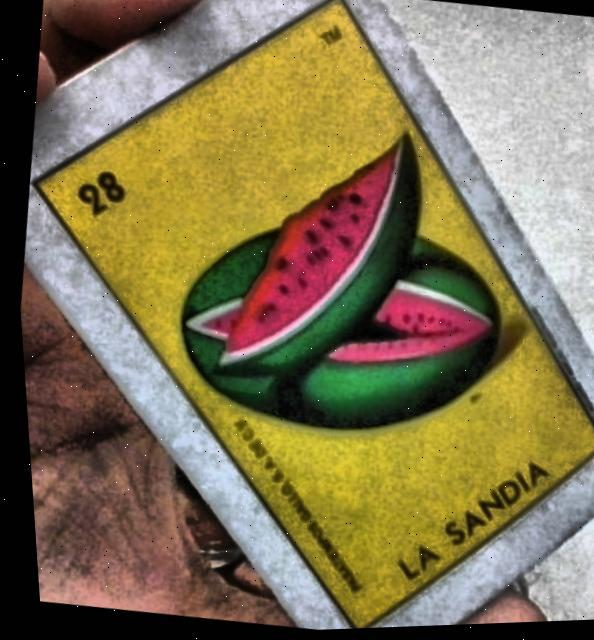La Sandia: (30, 0, 594, 626)
